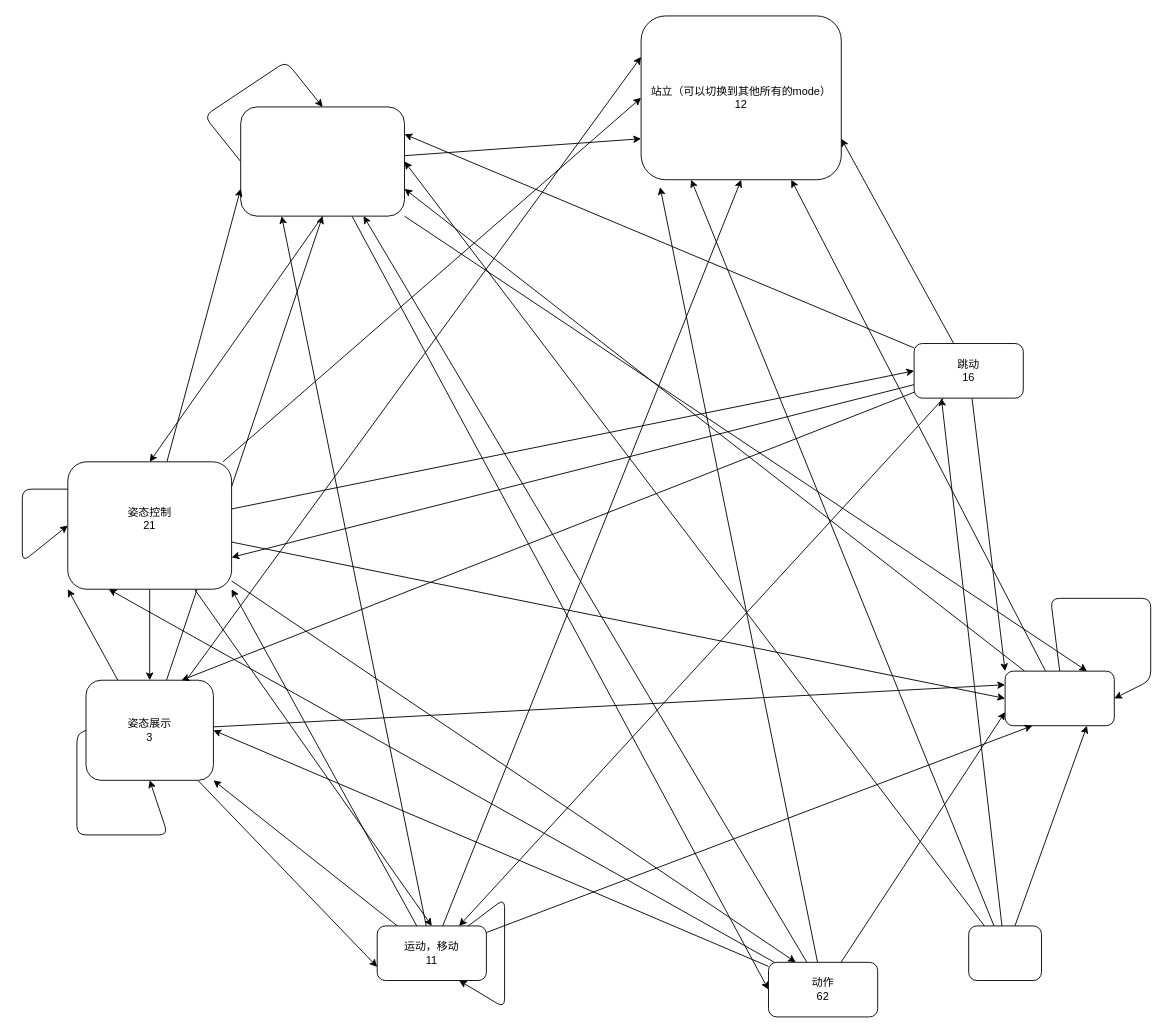
This 1174x1033 diagram has some shape labels left out. The shapes that lost their labels are listed below. From the top down, each one's centre as x and y in pixels, then its label:
At (x=322, y=161): "即停 0".
At (x=1059, y=698): "趴下 7".
At (x=1004, y=953): "作揖 64".
